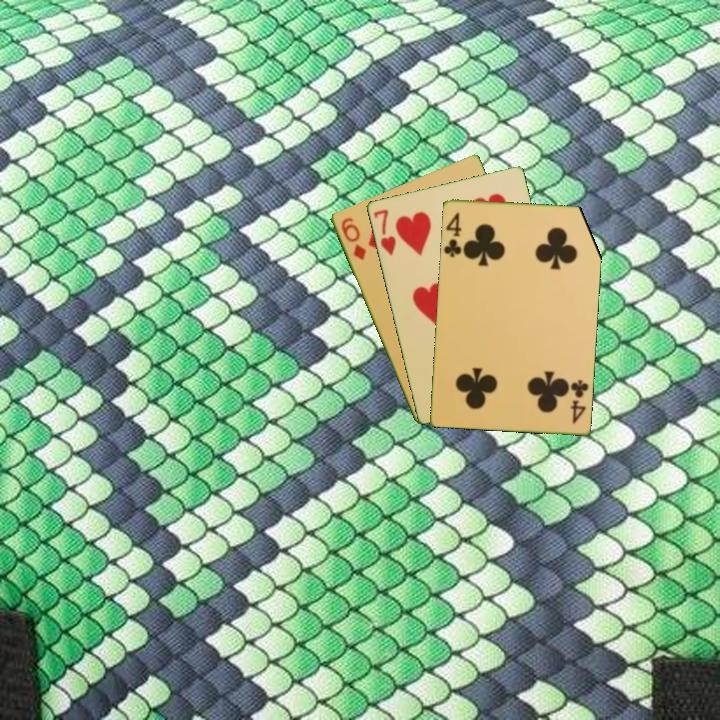4c: (441, 208, 466, 259), (566, 376, 591, 426)
6d: (337, 214, 369, 263)
7h: (370, 205, 398, 259)
